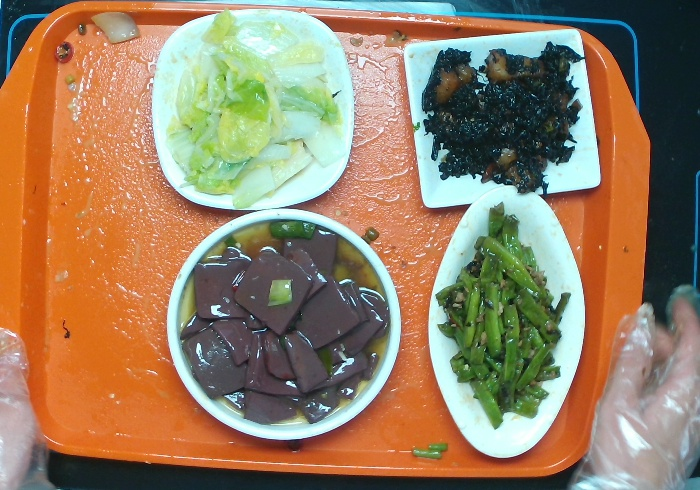HZYJPL-Si_Fang_Die: (402, 27, 602, 209)
HZYJPL-Si_Fang_Yuan_Die: (149, 7, 355, 212)
HZYJPL-Xiao_Yu_Die: (426, 183, 586, 459)
HZYJPL-Xiao_Yuan_Die: (165, 206, 402, 441)
